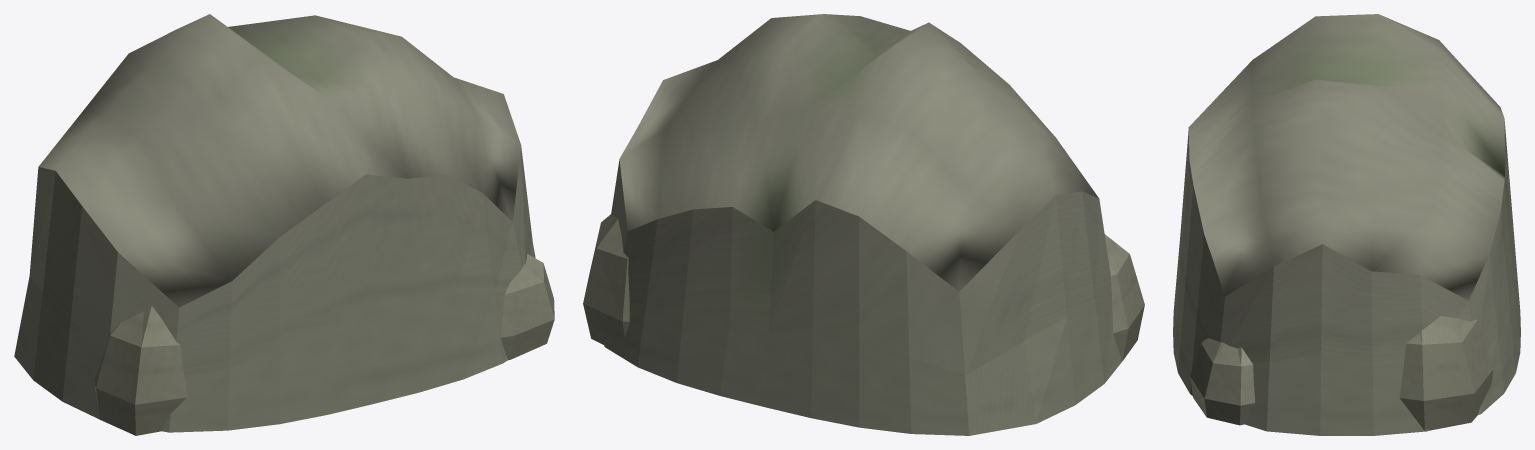
File: cliff-granite-lod1.glb
3 views of the same model, side by side, from view 1: azimuth 30°, elevation 25°; view 2: azimuth 150°, elevation 25°; view 3: azimuth 270°, elevation 25° (orthographic). The views are drawn at different scales.
Bounding box in the file's own units: 0.5051 × 0.3338 × 0.3575.
1 material, 1 textured.
